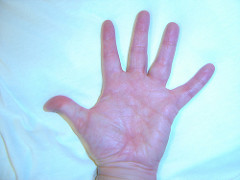palm: (97, 75, 170, 160)
